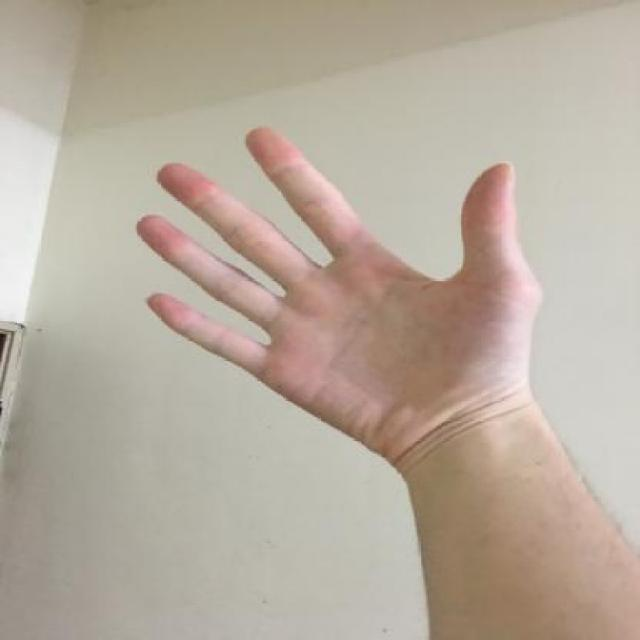Hand: (138, 124, 546, 488)
